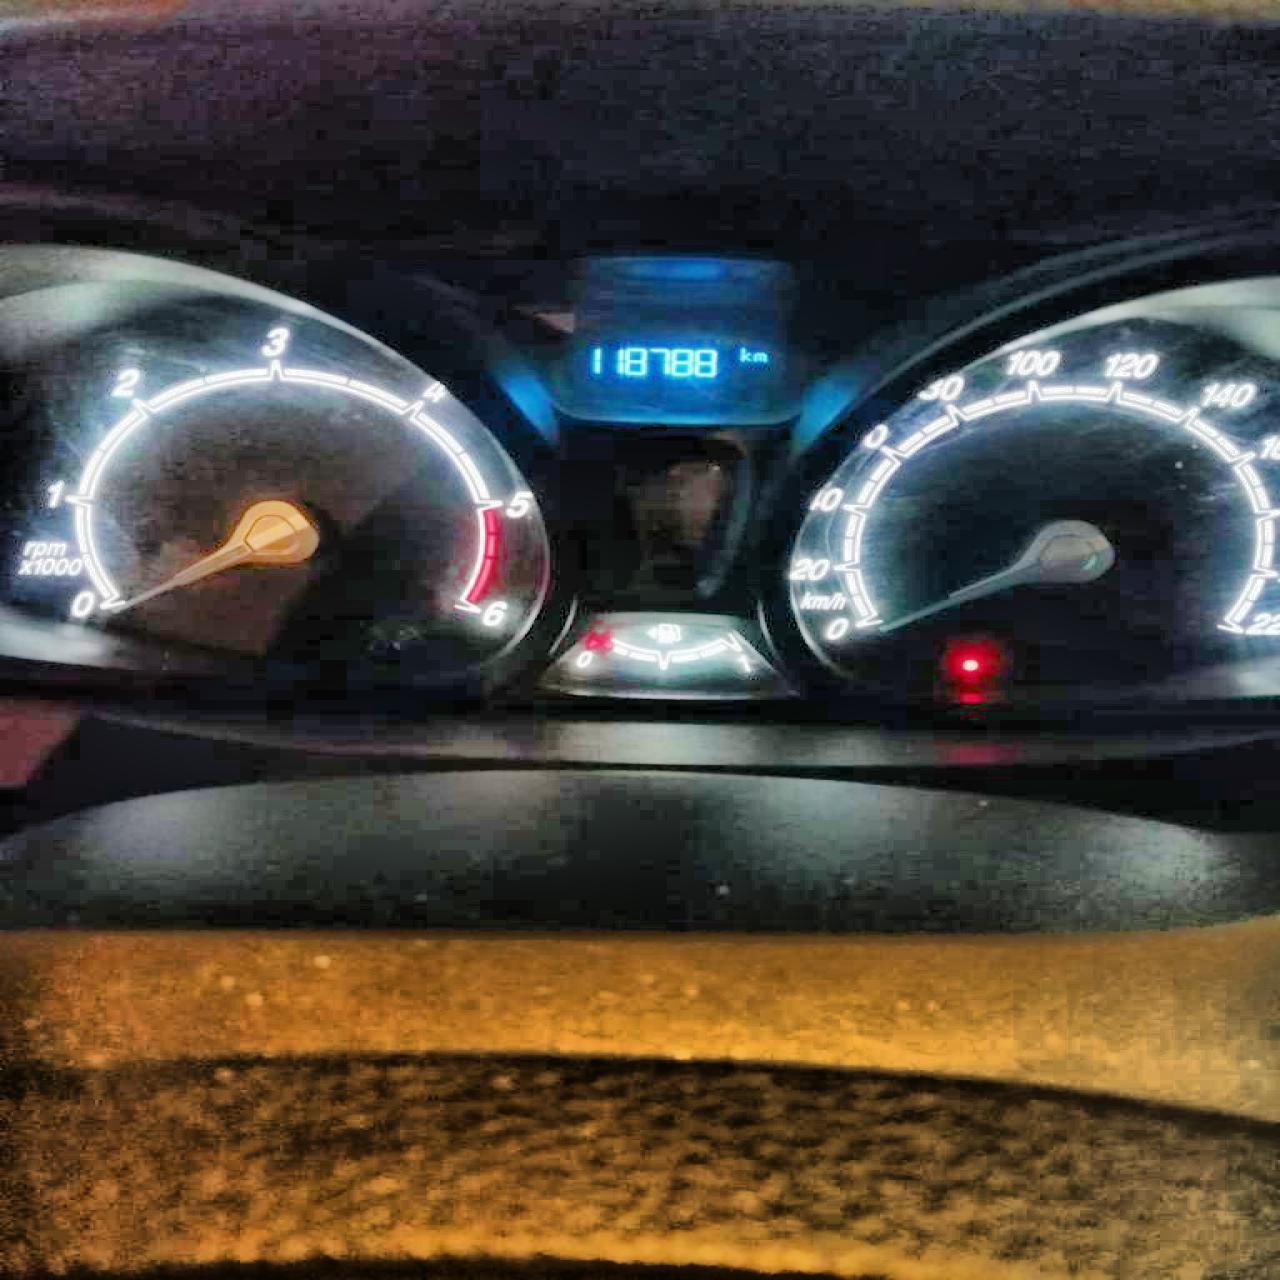1: (590, 346, 600, 374), (613, 347, 624, 374)
7: (648, 347, 668, 374)
8: (668, 347, 692, 375), (693, 347, 715, 376), (624, 346, 645, 374)
X: (738, 347, 750, 361), (751, 350, 767, 361)
odometer: (531, 321, 797, 425)
